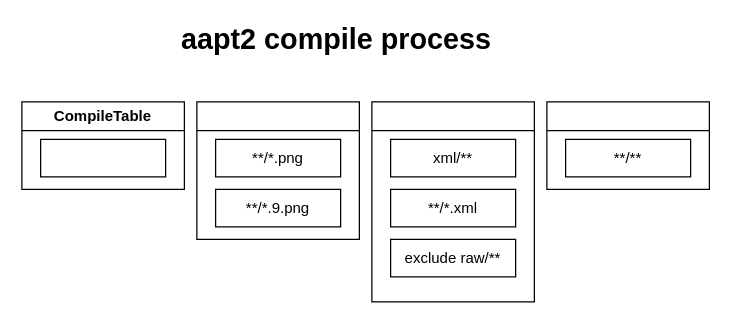
The diagram is 731 pixels wide and 324 high, and some of its shapes have lost their labels. Each missing label, with the box of its shape:
CompileFile: (546, 101, 709, 189)
CompilePng: (196, 101, 359, 239)
CompileXml: (371, 101, 534, 302)
values/*.xml: (39, 138, 166, 177)
